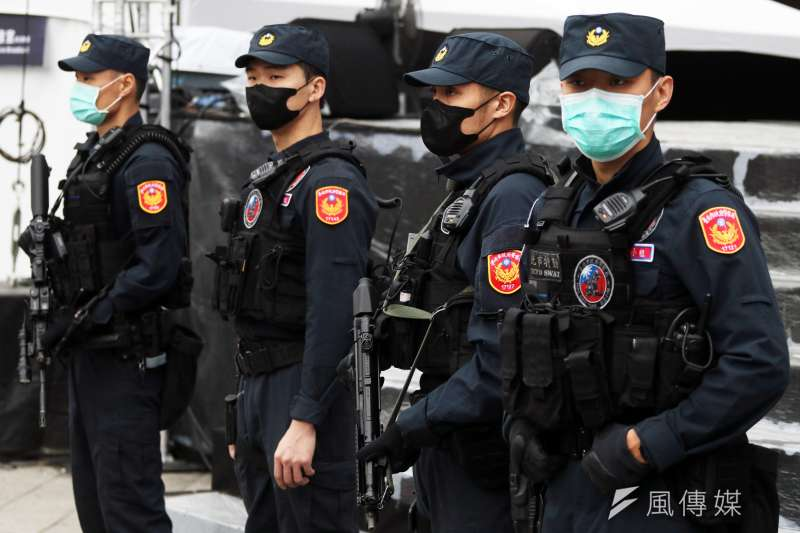people: (528, 14, 784, 533), (381, 32, 553, 533), (209, 25, 374, 533), (36, 33, 189, 533)
